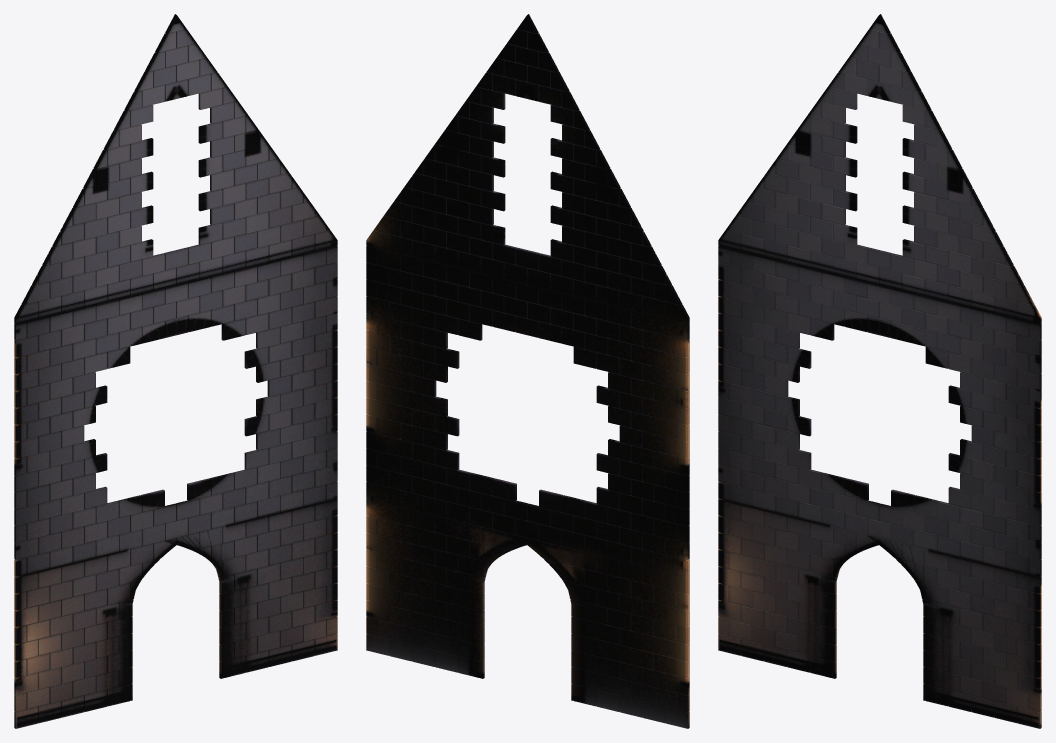
The model's file is entrance_masonry.glb.
3 views of the same model, side by side, from view 1: azimuth 30°, elevation 25°; view 2: azimuth 150°, elevation 25°; view 3: azimuth 330°, elevation 25° (orthographic).
Parts seen in each view (by area): view 1: entrance_masonry.001; view 2: entrance_masonry.001; view 3: entrance_masonry.001.
Part boxes in pixels (box(x1,y1,x2,y2)): entrance_masonry.001: box(14, 14, 337, 728); entrance_masonry.001: box(366, 14, 689, 728); entrance_masonry.001: box(718, 14, 1041, 728).
Size of the model in its own units: 13.98 by 27.98 by 0.12.
1 material, 1 textured.
